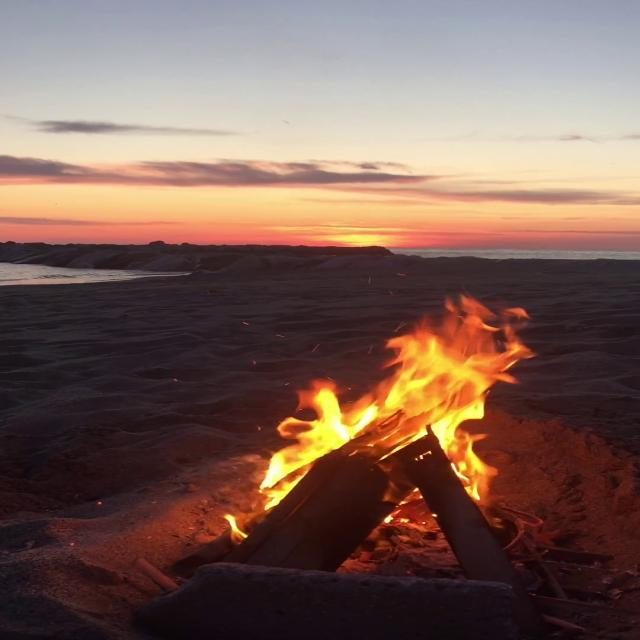Fire: (228, 290, 546, 541)
